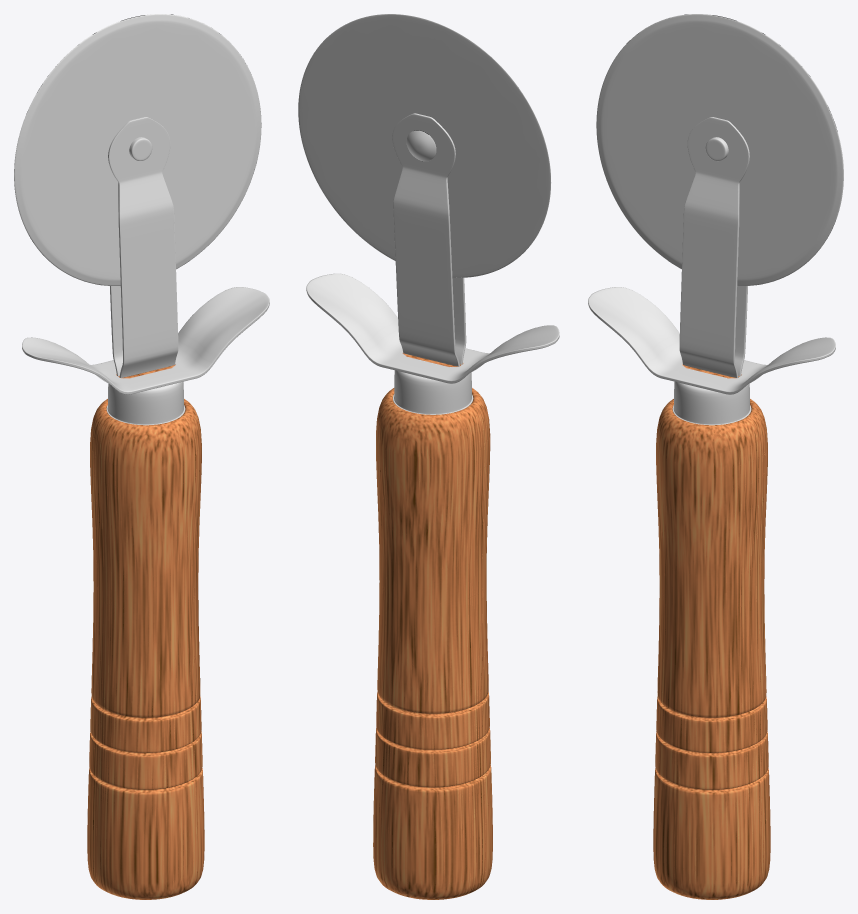
The model's file is pizza_knife.glb.
3 renders of one model, left to right at view 1: azimuth 30°, elevation 25°; view 2: azimuth 150°, elevation 25°; view 3: azimuth 330°, elevation 25°, orthographic. The views are drawn at different scales.
Bounding box in the file's own units: 2.08 × 6.87 × 0.8554.
Materials: 1 (1 with a texture image).
